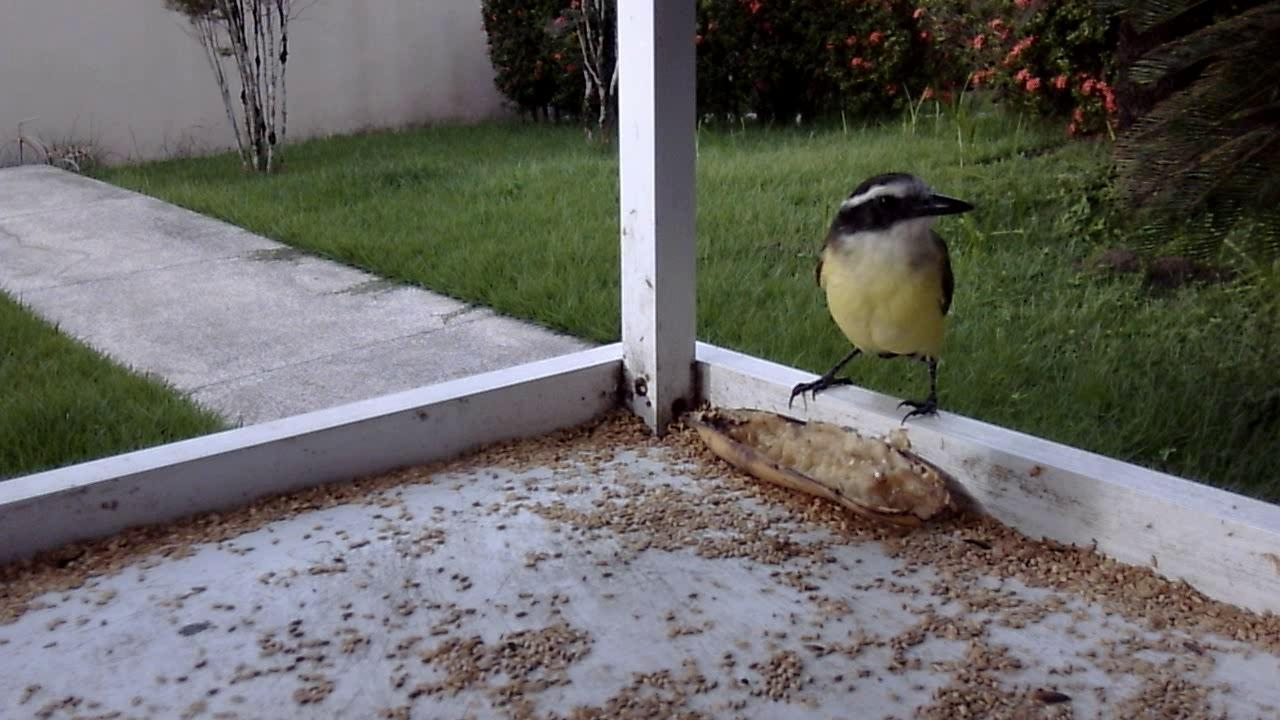bem_te_vi: (784, 167, 977, 431)
